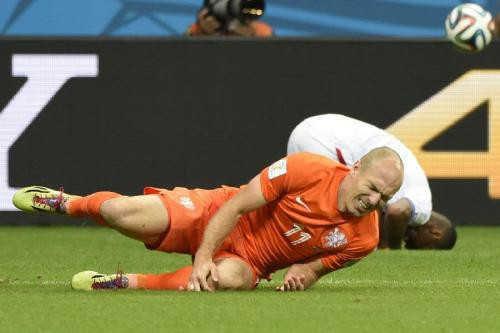down: (9, 138, 411, 297), (263, 105, 466, 256)
